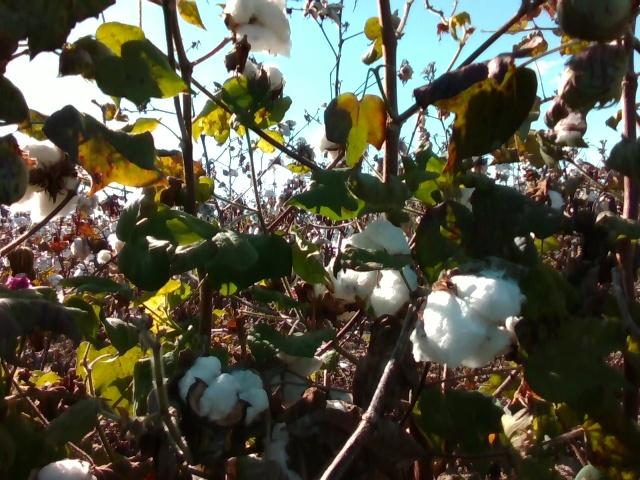cotton_ready: (411, 269, 528, 370), (315, 216, 421, 317), (181, 355, 272, 423), (12, 142, 84, 219), (224, 0, 295, 60), (262, 420, 306, 480), (235, 58, 288, 92), (555, 93, 586, 147), (32, 456, 101, 480)
